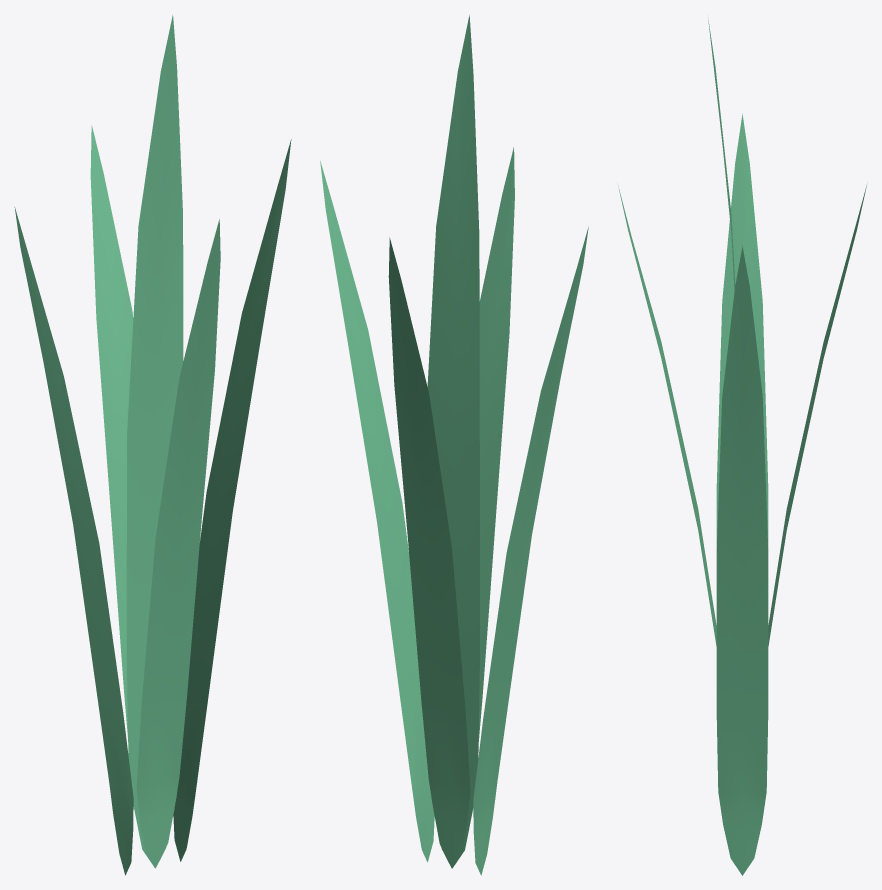
Rendered from grassnew.fbx.
3 renders of one model, left to right at view 1: azimuth 30°, elevation 25°; view 2: azimuth 150°, elevation 25°; view 3: azimuth 270°, elevation 25°, orthographic. The views are drawn at different scales.
Visible parts, largest first — view 1: grass2, grass4, grass3, grass, grass5; view 2: grass2, grass5, grass3, grass, grass4; view 3: grass3, grass, grass5, grass4, grass2.
Part boxes in pixels (x1,y1,x2,y2): grass2: (126,15,183,867); grass4: (136,219,220,868); grass3: (173,139,291,861); grass: (14,207,133,875); grass5: (90,125,133,736); grass2: (426,15,479,868); grass5: (388,237,470,868); grass3: (320,160,434,862); grass: (473,227,588,875); grass4: (478,147,514,741); grass3: (716,246,768,875); grass: (716,113,768,547); grass5: (768,185,866,646); grass4: (618,185,716,646); grass2: (708,17,735,291).
Bounding box in the file's own units: 27.57 × 82.52 × 22.08.
